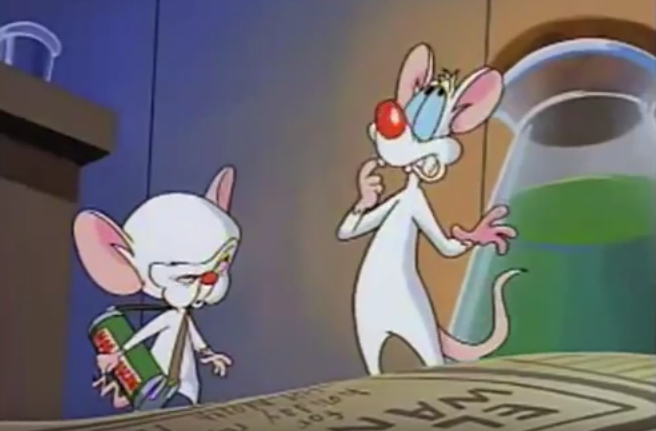cerebro: (67, 154, 238, 419)
pink: (331, 24, 526, 391)
